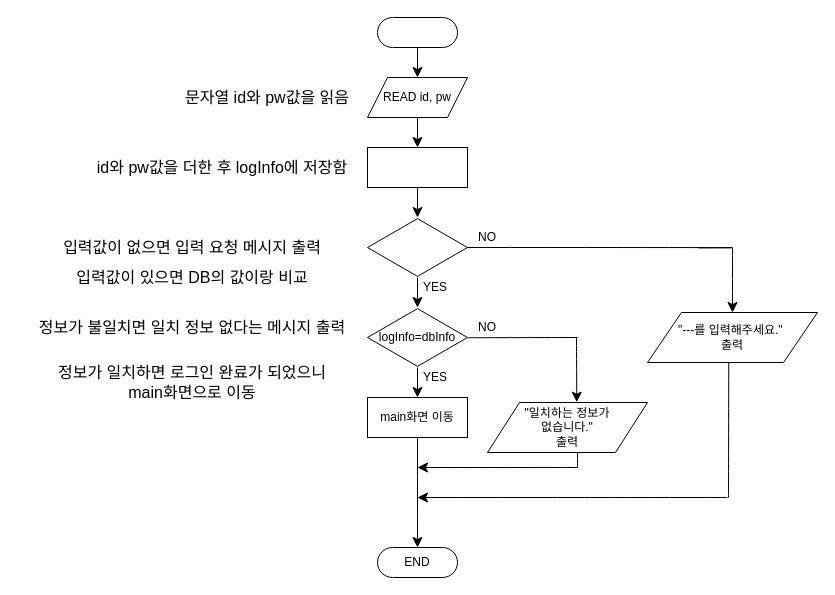
Image size: 835x595. Some labels were removed from this diagram. The shapes that lost their labels are listed below. From the top down, each one's centre as x and y in pixels, then its label:
pixel 417 32: START
pixel 417 167: logInfo= id+pw
pixel 417 247: logInfo!=null
